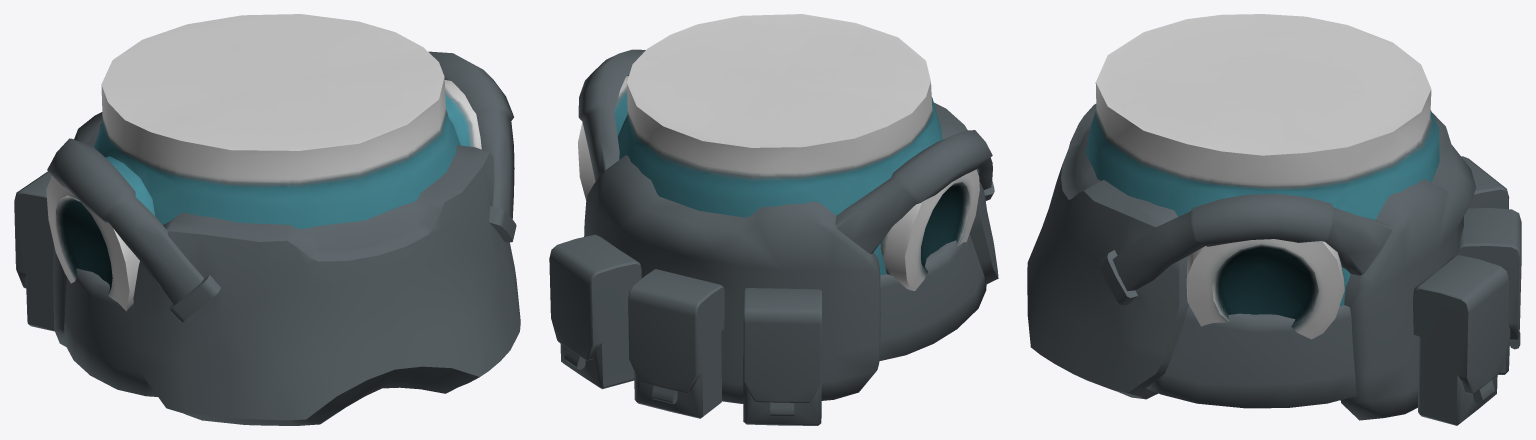
Rendered from IG_Armor_ColdProtect_Raider.fbx.
3 views of the same model, side by side, from view 1: azimuth 30°, elevation 25°; view 2: azimuth 150°, elevation 25°; view 3: azimuth 270°, elevation 25° (orthographic). The views are drawn at different scales.
Visible parts, largest first — view 1: Clothes_LV2, JLAB_ProtectiveClothes_Body; view 2: Clothes_LV2, JLAB_ProtectiveClothes_Body; view 3: Clothes_LV2, JLAB_ProtectiveClothes_Body.
Part boxes in pixels (x1,y1,x2,y2): Clothes_LV2: (14, 51, 520, 425); JLAB_ProtectiveClothes_Body: (46, 14, 481, 311); Clothes_LV2: (549, 49, 998, 425); JLAB_ProtectiveClothes_Body: (578, 14, 979, 290); Clothes_LV2: (1027, 104, 1521, 425); JLAB_ProtectiveClothes_Body: (1085, 14, 1439, 339).
Size of the model in its own units: 0.7852 by 0.5185 by 0.8107.
2 materials, 2 textured.
